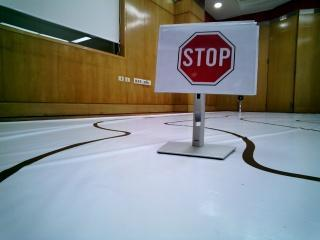stop: (161, 26, 254, 91)
